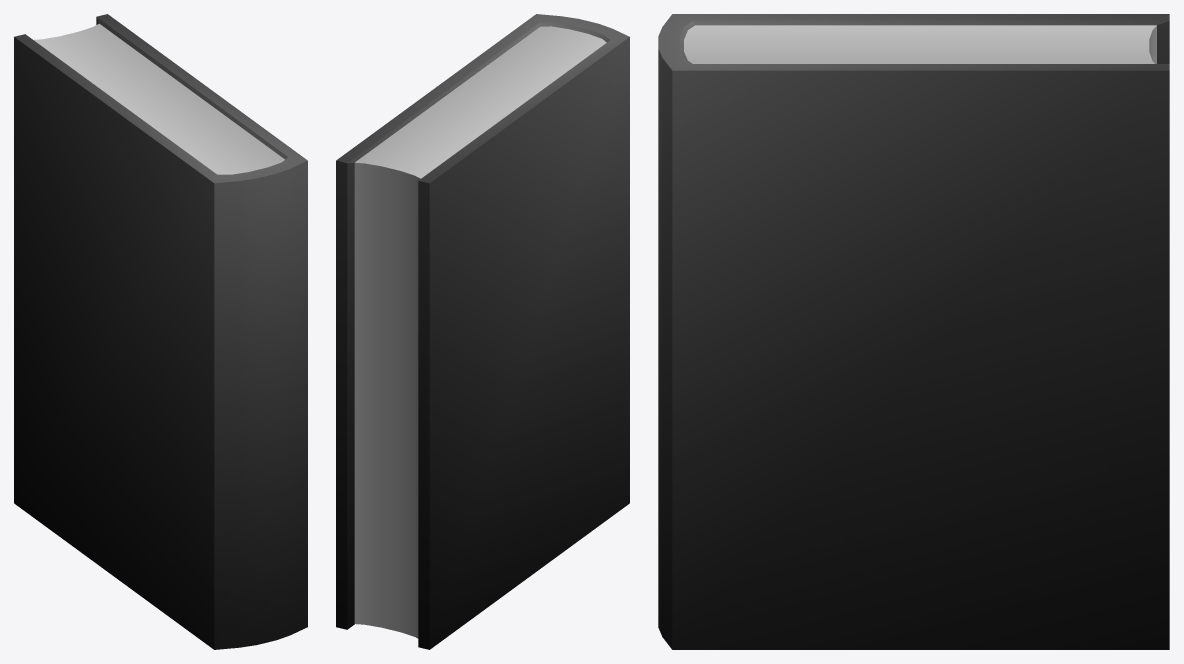
The model's file is Book_04.fbx.
The picture shows the model from 3 angles, left to right: view 1: azimuth 30°, elevation 25°; view 2: azimuth 150°, elevation 25°; view 3: azimuth 270°, elevation 25°; orthographic projection. The views are drawn at different scales.
Visible parts, largest first — view 1: book_4; view 2: book_4; view 3: book_4.
Boxes of the visible parts, left/top/right/bottom form: book_4: left=14, top=14, right=307, bottom=649; book_4: left=336, top=14, right=629, bottom=649; book_4: left=658, top=14, right=1169, bottom=649.
Size of the model in its own units: 0.044 by 0.2096 by 0.1677.
